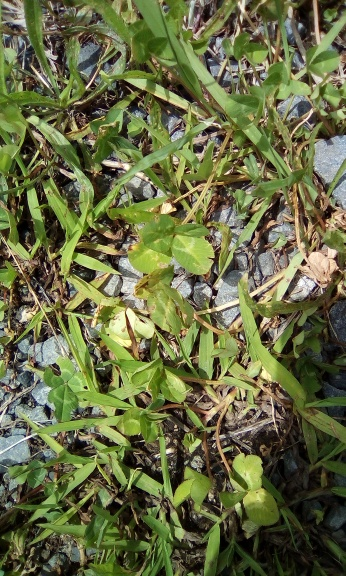4leaf: (127, 214, 216, 276)
